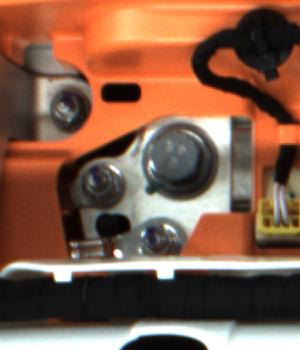nut_b: (139, 122, 220, 197)
screw_s: (77, 161, 119, 199), (135, 220, 176, 254), (51, 96, 83, 123)
